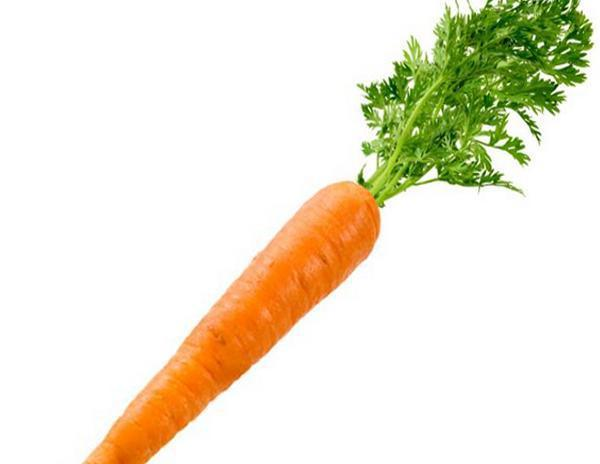carrot: (74, 166, 413, 464)
